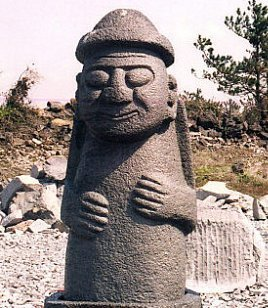Stone Statue: (45, 4, 210, 308)
